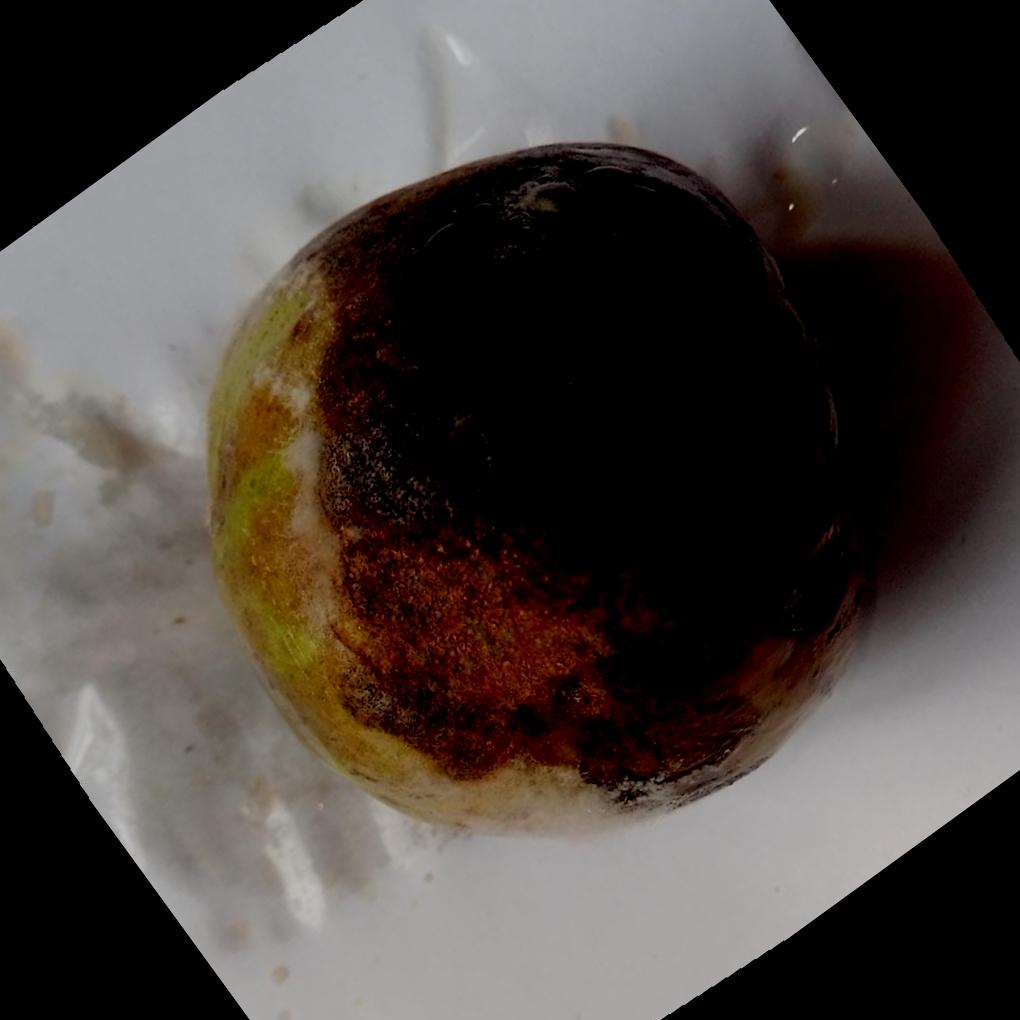FreshOrange: (207, 138, 879, 840)
